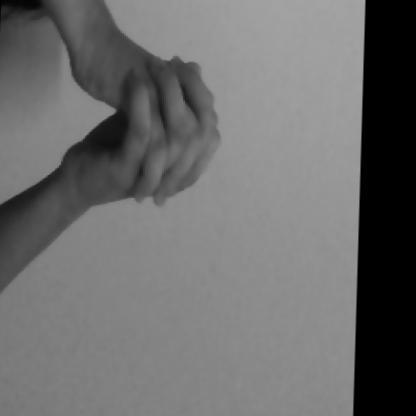prayer: (30, 29, 249, 255)
